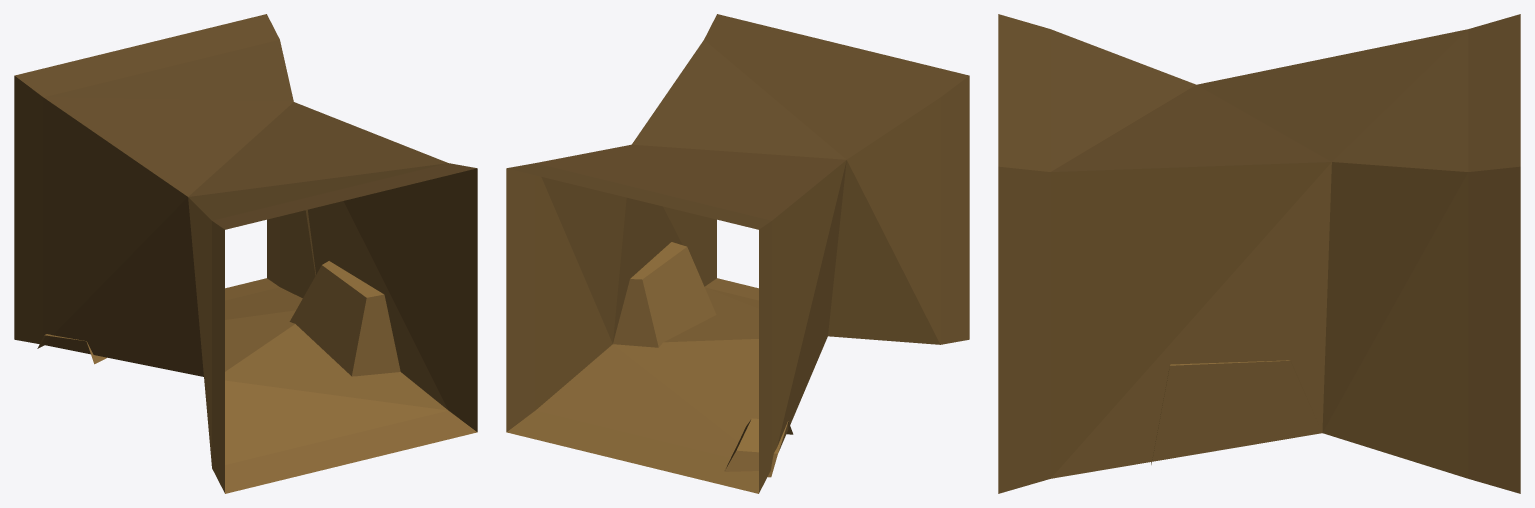
The model's file is SD_Env_Goblin_Tunnel_01.fbx.
3 views of the same model, side by side, from view 1: azimuth 30°, elevation 25°; view 2: azimuth 150°, elevation 25°; view 3: azimuth 270°, elevation 25° (orthographic). The views are drawn at different scales.
Parts seen in each view (by area): view 1: SD_Env_Goblin_Tunnel_01; view 2: SD_Env_Goblin_Tunnel_01; view 3: SD_Env_Goblin_Tunnel_01.
Part boxes in pixels (box(x1,y1,x2,y2)): SD_Env_Goblin_Tunnel_01: box(14, 14, 477, 493); SD_Env_Goblin_Tunnel_01: box(506, 14, 969, 493); SD_Env_Goblin_Tunnel_01: box(998, 14, 1520, 493).
Size of the model in its own units: 3.46 by 3.46 by 5.
